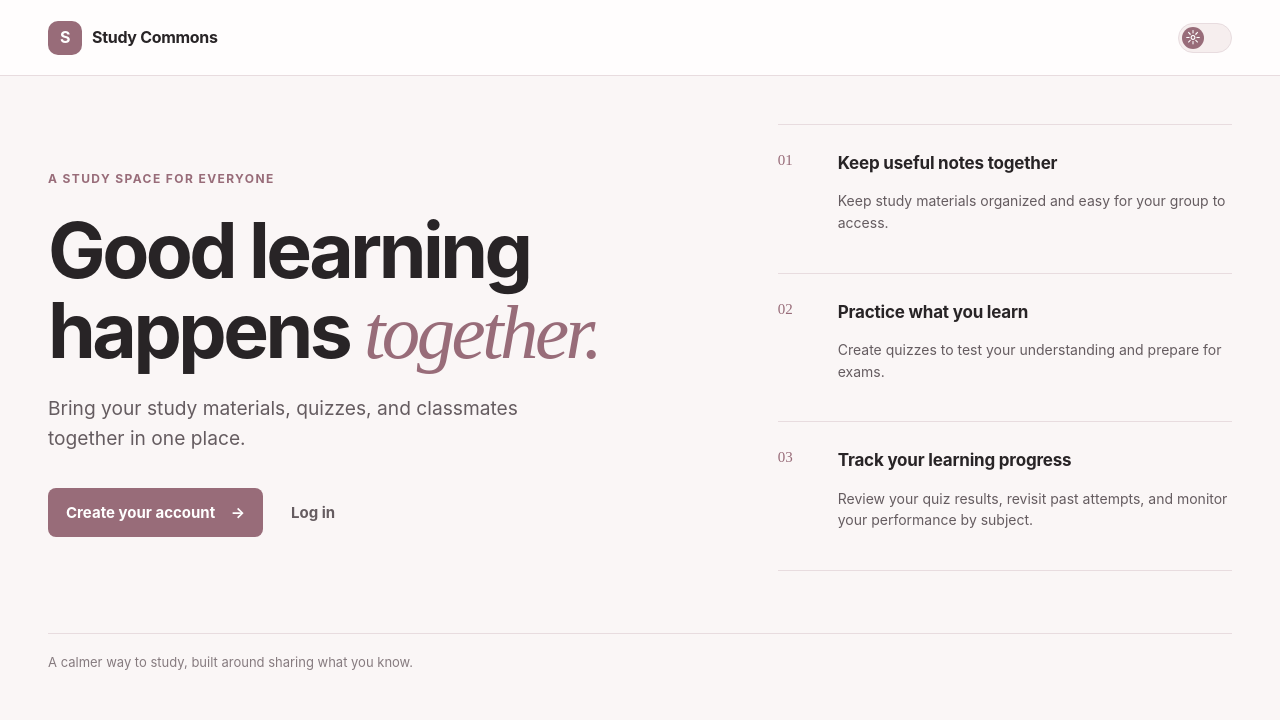
it: Study Commons routes and forms › shows landing navigation and opens registration
Expected: the heading "Good learning" is shown, [48,211,663,372]
What coordinates should you click on to do the following:
click the link "Create your account →"
I would click on:
 (156, 513)
Its box is [48,488,263,537].
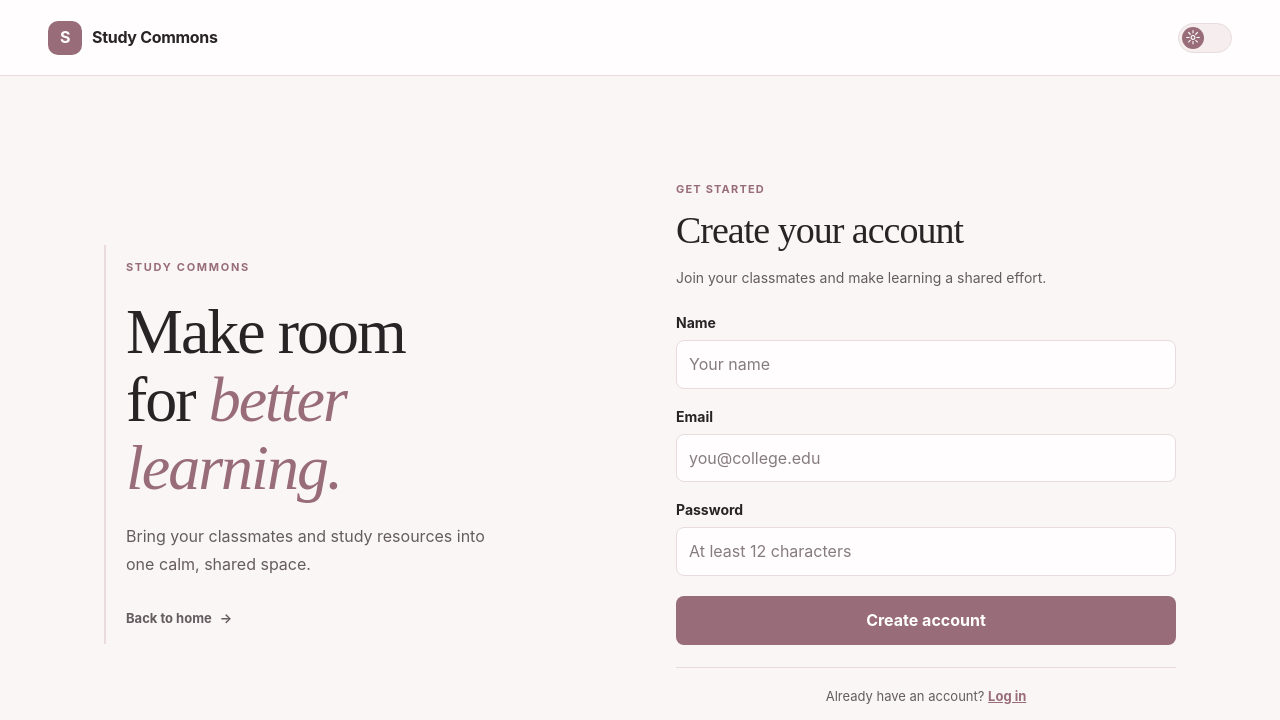
Expected: the heading "Create your account" is shown, [676,209,963,251]
Expected: the field labelled "Name" is shown, [676,340,1176,389]
